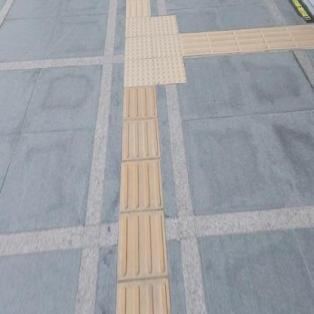Podoctatil: (113, 90, 173, 314), (117, 4, 202, 106), (184, 22, 314, 57)
